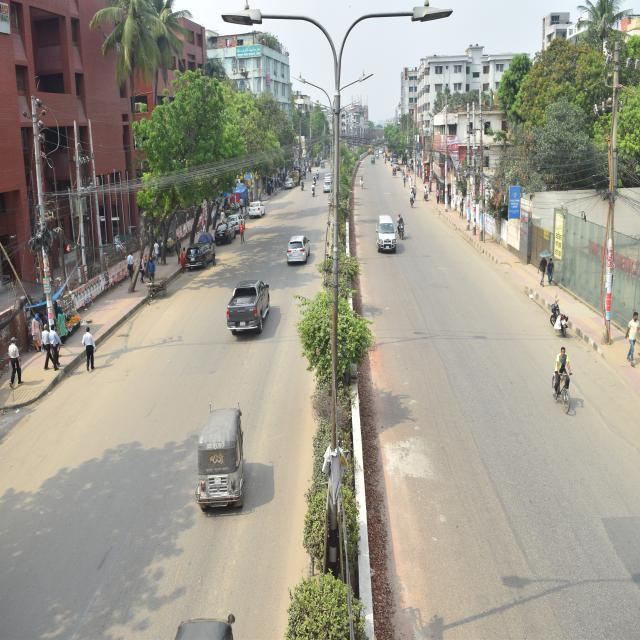car: (231, 272, 269, 343), (372, 208, 400, 265), (181, 241, 213, 276), (286, 237, 309, 268), (213, 218, 236, 248), (229, 206, 244, 232), (318, 171, 335, 193), (281, 178, 296, 195)
motorbike: (541, 296, 572, 339), (308, 167, 321, 190), (297, 173, 308, 197), (310, 182, 317, 200)
